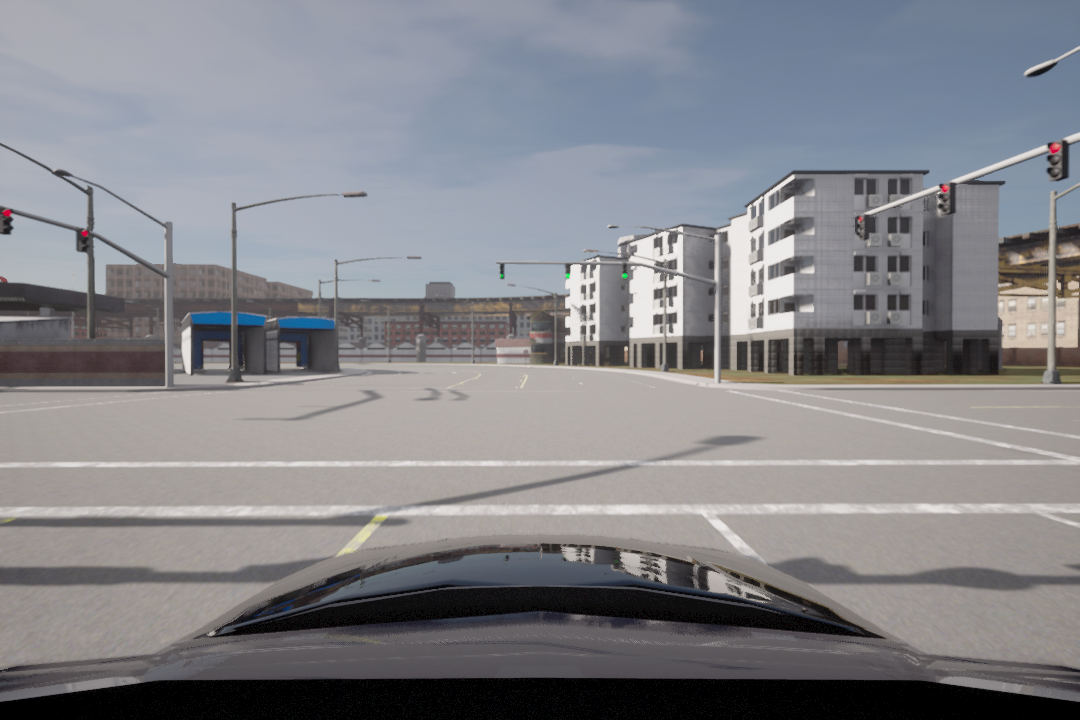TrafficLight: (934, 181, 958, 217), (1047, 141, 1070, 177), (854, 213, 874, 243), (72, 224, 91, 254), (1, 207, 13, 237), (619, 261, 632, 279), (495, 262, 507, 280), (564, 262, 573, 282)
